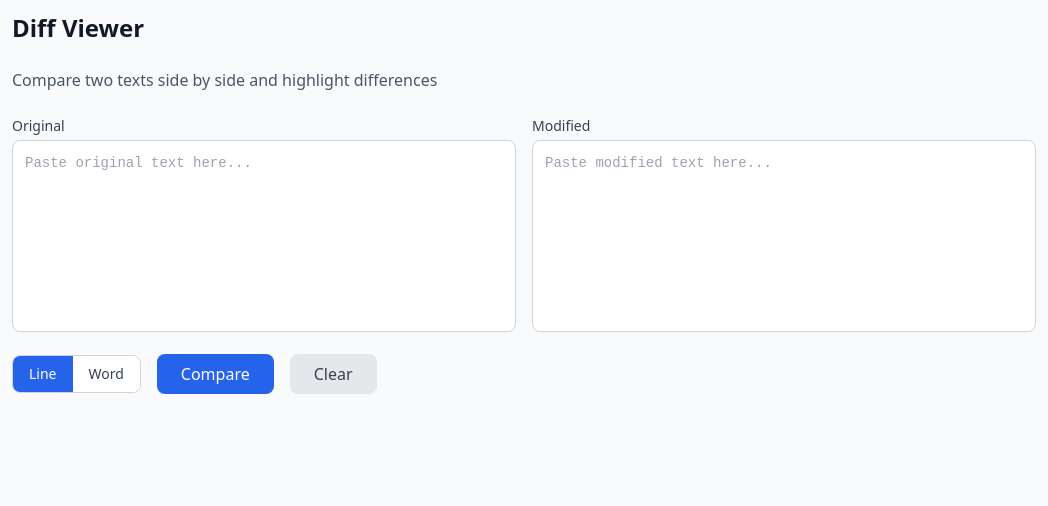
Test: DiffViewer › handles one empty and one non-empty input
This screenshot has width=1048, height=506.
Step 1. Type "some text" into the text box labelled "Original" → (264, 236), box [12,140,516,332]
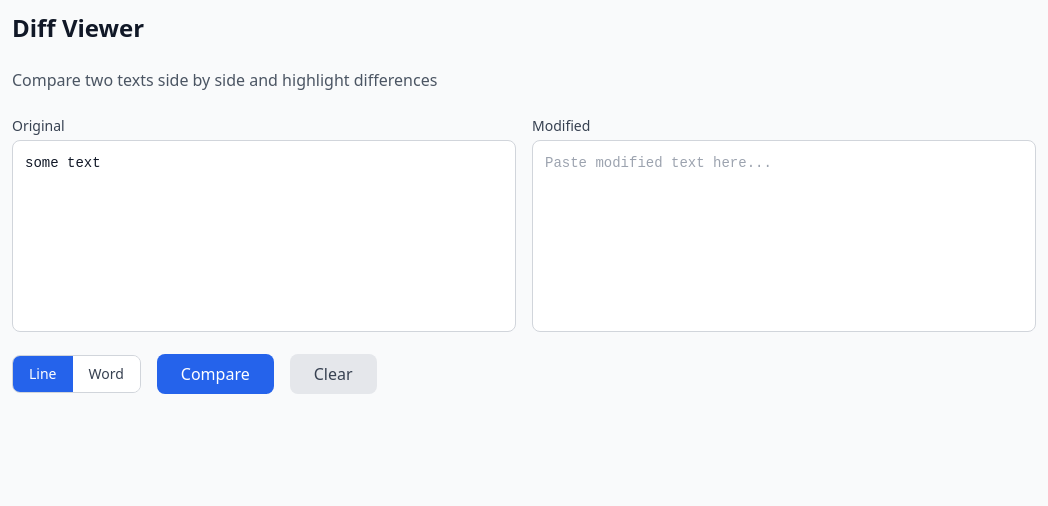
Step 2. Click the button "Compare" → click(215, 374), box [157,354,274,394]
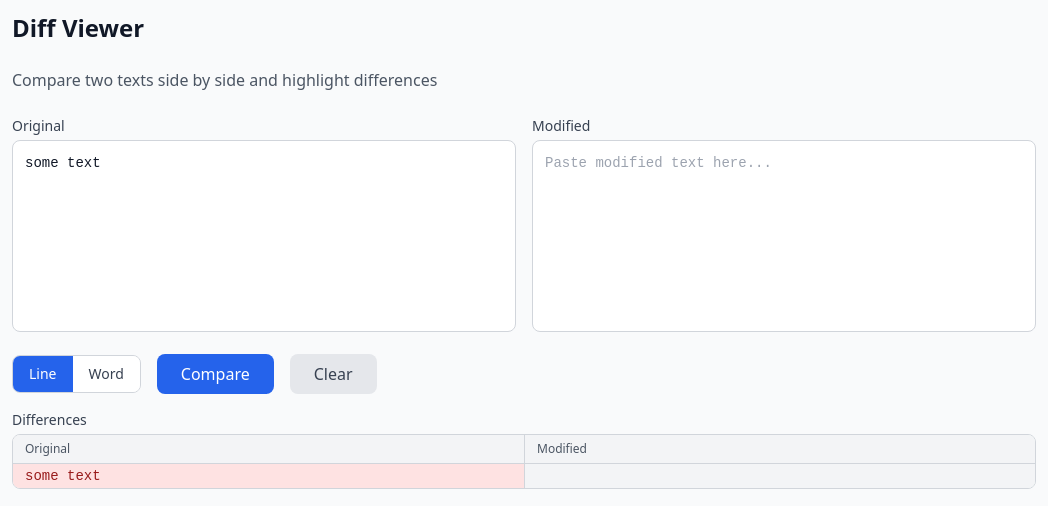
Expected: the text "Differences" is shown, [12,410,87,429]
